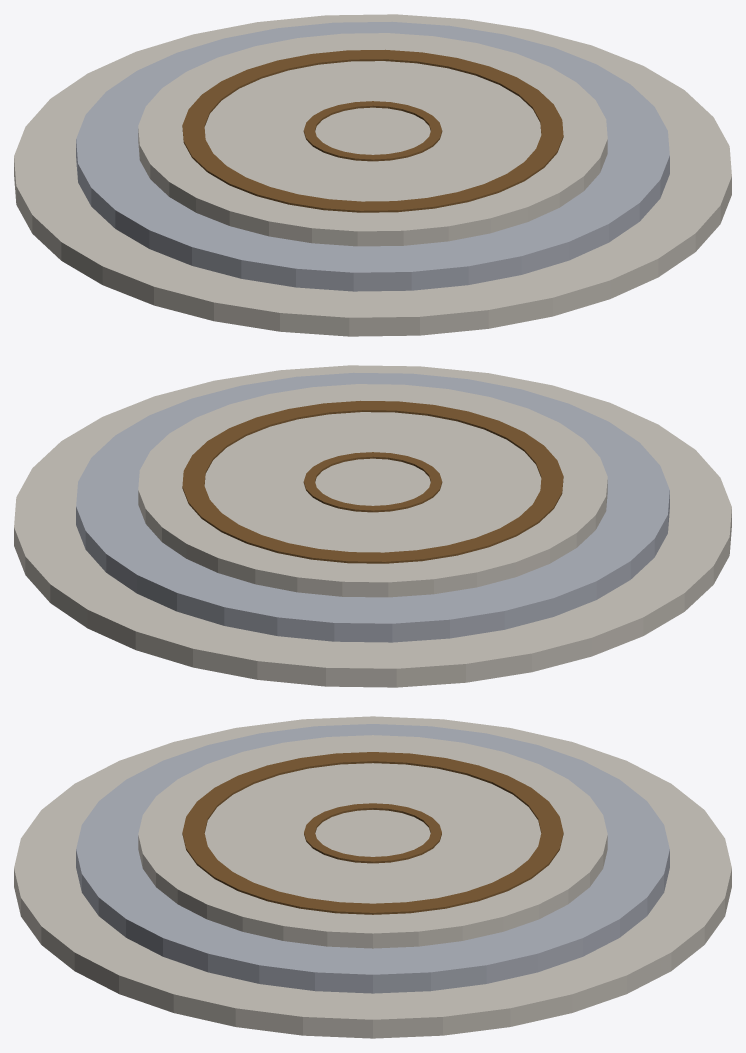
The model's file is Altar.fbx.
3 views of the same model, one above another, from view 1: azimuth 30°, elevation 25°; view 2: azimuth 150°, elevation 25°; view 3: azimuth 270°, elevation 25° (orthographic).
Parts seen in each view (by area): view 1: Altar; view 2: Altar; view 3: Altar.
Part boxes in pixels (box(x1,y1,x2,y2)): Altar: box(14, 14, 731, 336); Altar: box(14, 365, 731, 687); Altar: box(14, 716, 731, 1038).
Size of the model in its own units: 5.2 by 0.435 by 5.2.
